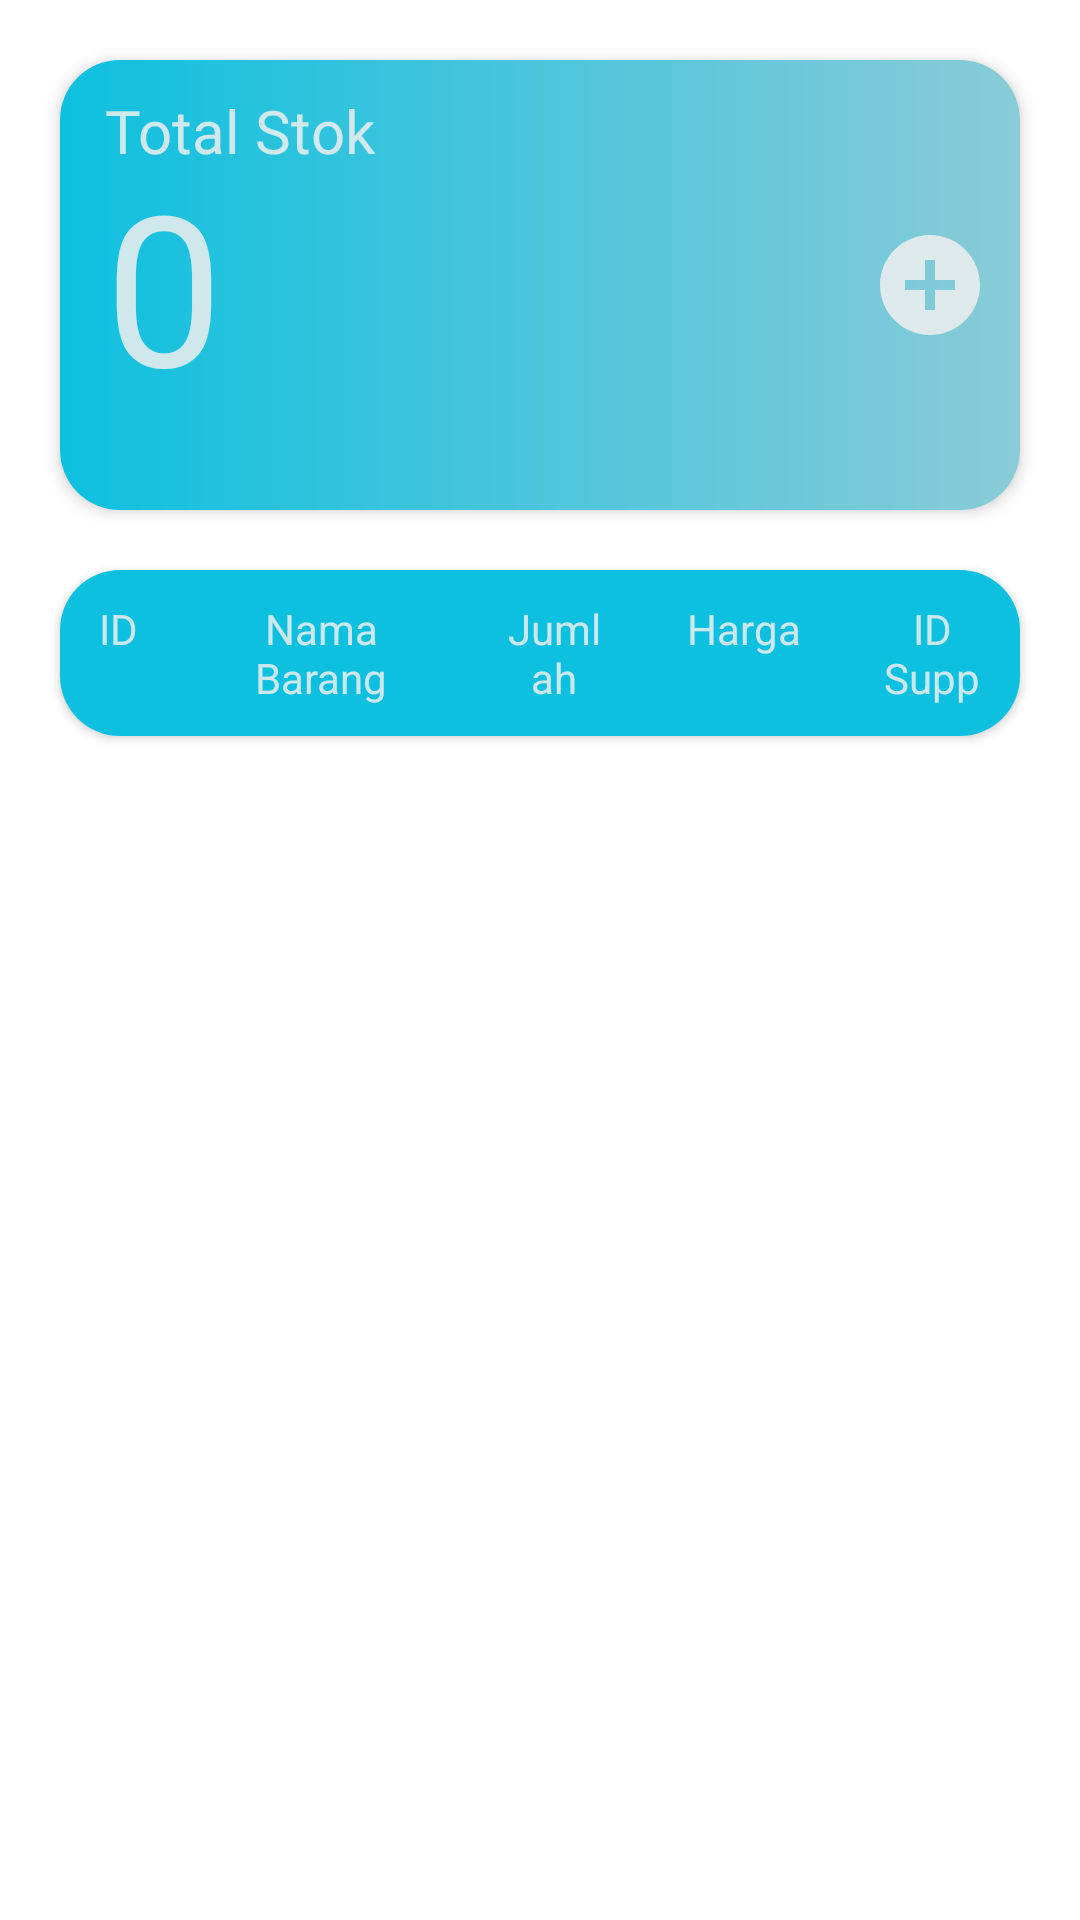

Named icons in this screenshot (1080 x 1920) and their centers, [x,y]:
tambah: [930,285]
